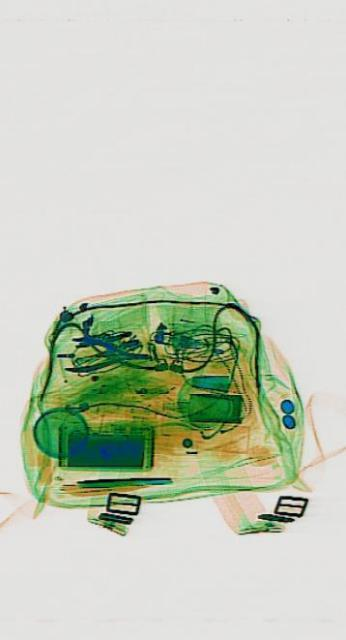Pliers: (62, 335, 147, 371)
